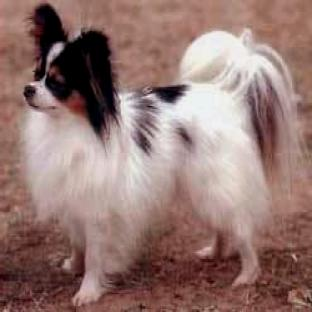Animal: (22, 3, 301, 305)
